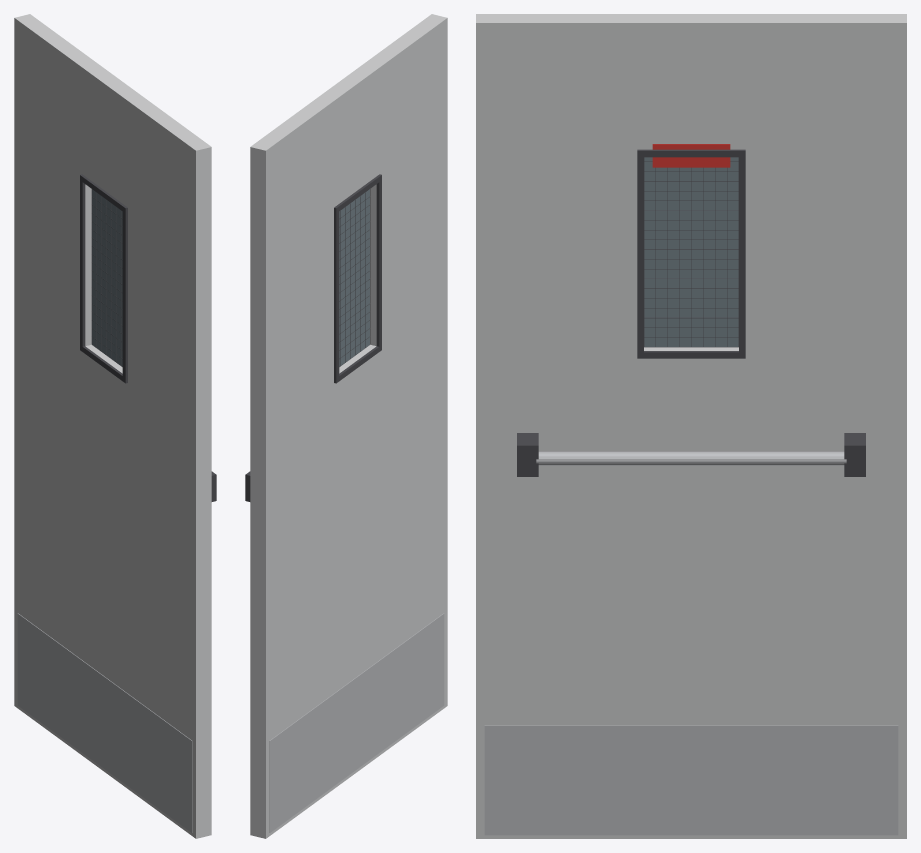
Rendered from SM_Int_Door_Fire.fbx.
3 renders of one model, left to right at view 1: azimuth 30°, elevation 25°; view 2: azimuth 150°, elevation 25°; view 3: azimuth 270°, elevation 25°, orthographic. The views are drawn at different scales.
Parts seen in each view (by area): view 1: SM_Int_Door_Fire; view 2: SM_Int_Door_Fire; view 3: SM_Int_Door_Fire.
Part boxes in pixels (left/top/right/bottom): SM_Int_Door_Fire: left=14, top=14, right=216, bottom=838; SM_Int_Door_Fire: left=245, top=14, right=447, bottom=838; SM_Int_Door_Fire: left=476, top=14, right=906, bottom=838.
Bounding box in the file's own units: 1 × 0.129 × 2.09.
